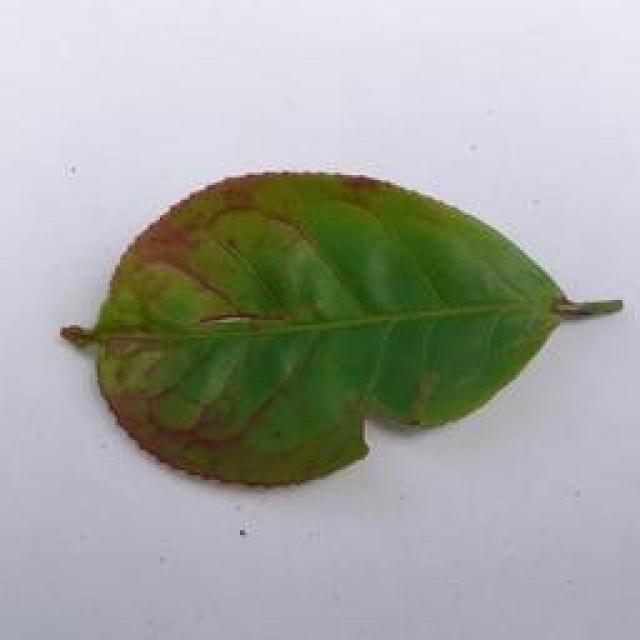Red Leaf Spot: (45, 162, 628, 493)
